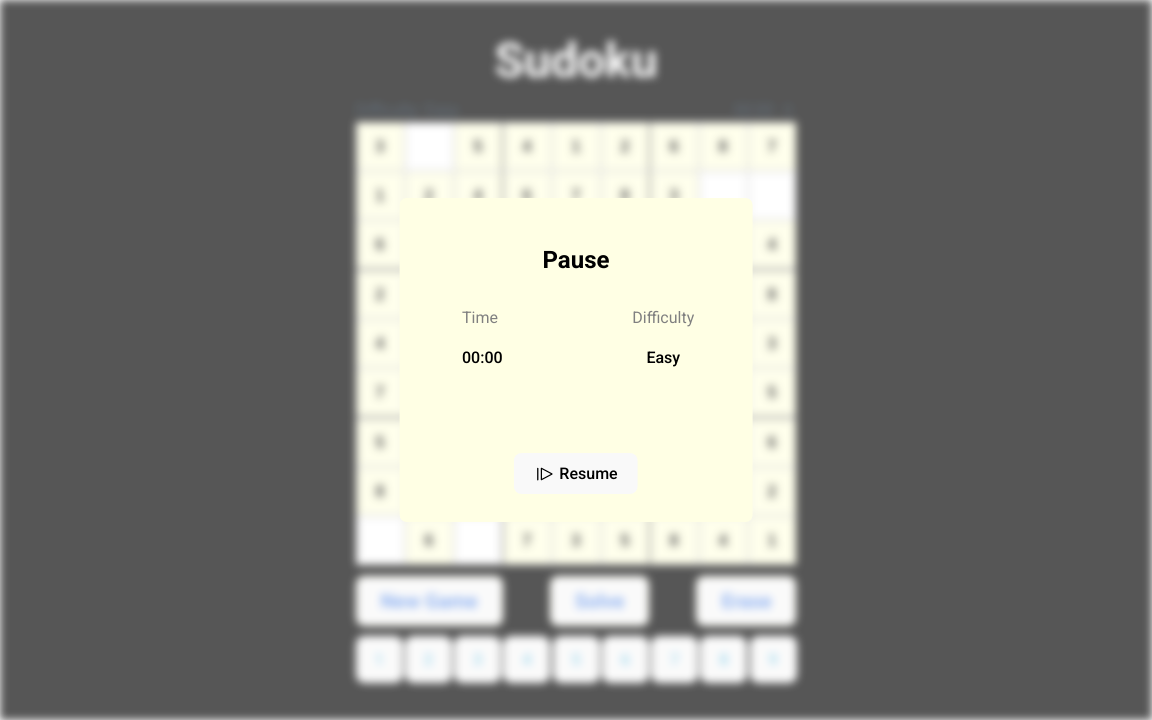
Sudoku - Resume › should display/hide pause container
The image size is (1152, 720).
Expected: the heading "Pause" is shown, [542,248,609,272]
Click the button "Resume" at (576, 474), box [514,453,638,494]
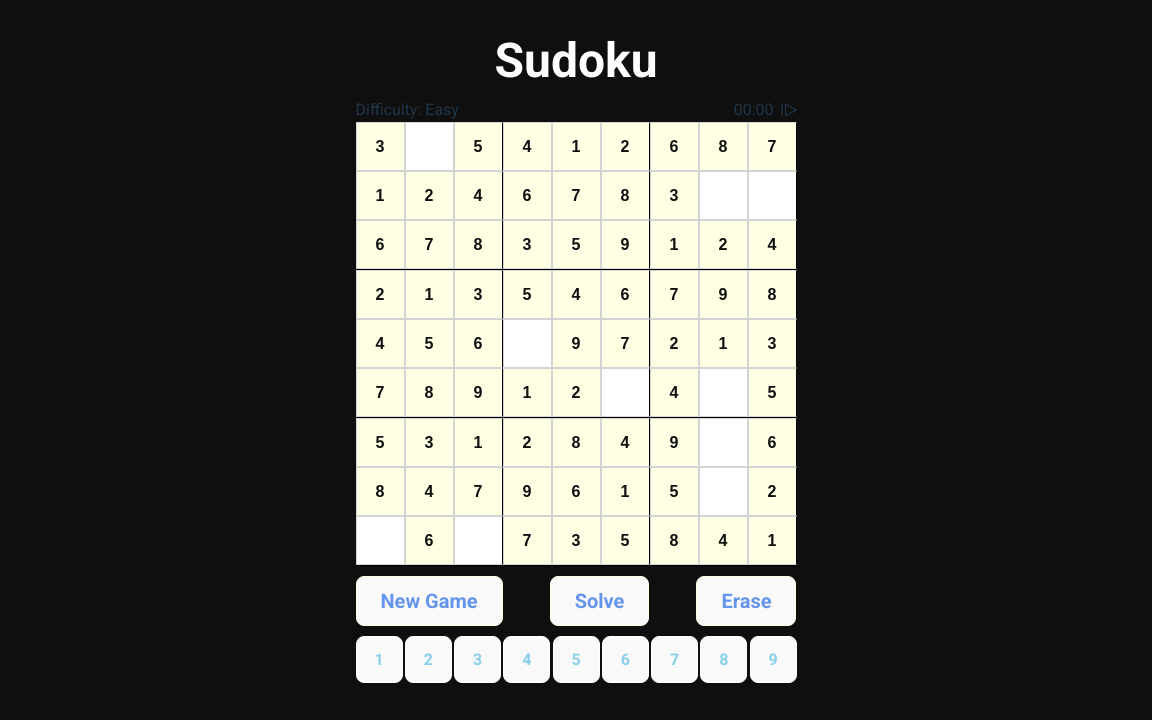
Result: the heading "Pause" is gone
Result: the button "Resume" is gone
Note: click resume in main container will open up the pause container
Click the icon with class "rx-pointer" at (788, 110), box [778,101,796,119]
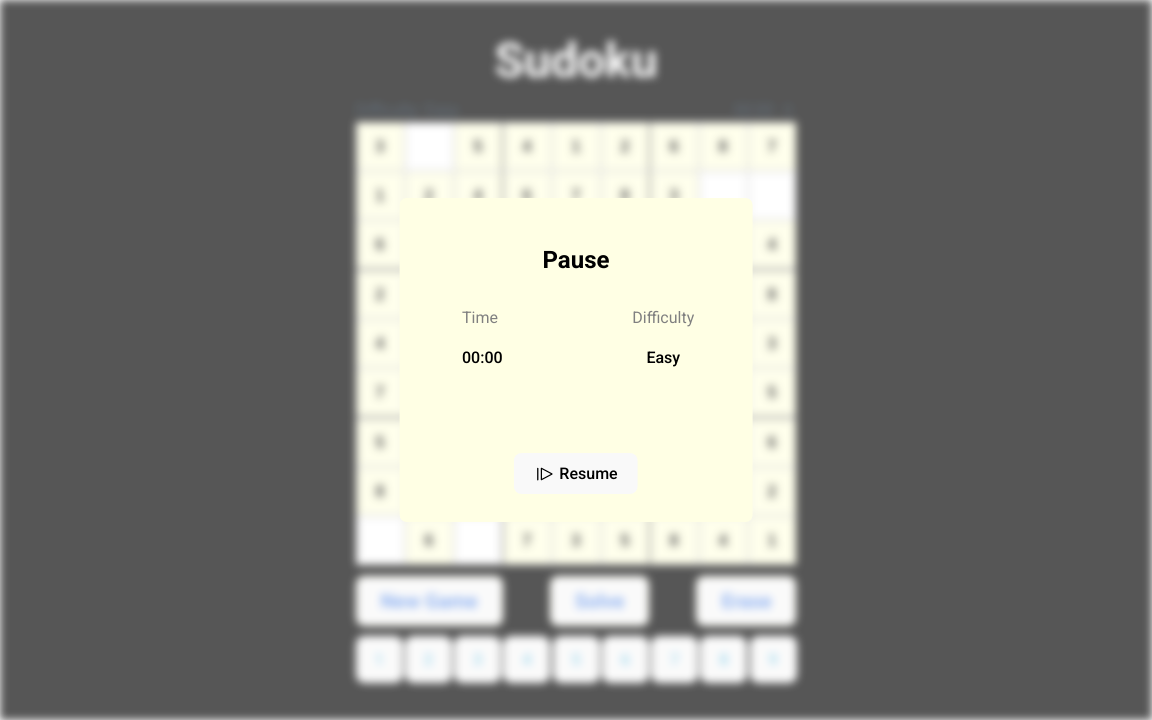
Result: the heading "Pause" is shown at [542,248,609,272]
Result: the button "Resume" is shown at [514,453,638,494]
